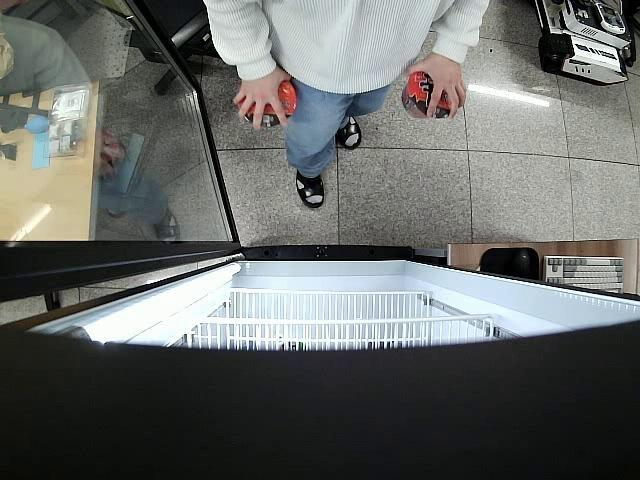01_ShinRamen_L: (238, 80, 298, 130), (400, 70, 455, 120)
